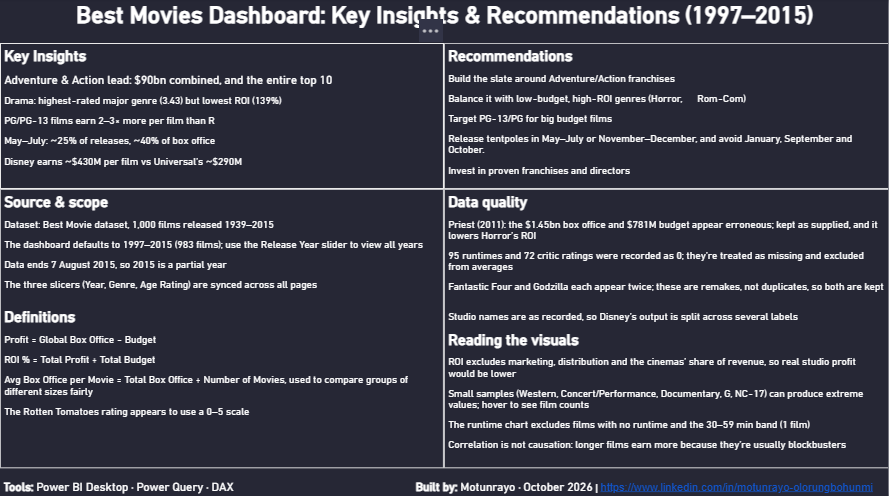

What the dashboard file says about the page in this screenshot:
{"tool":"powerbi","page":{"name":"Insights & Recommendations","canvas":[1280,720],"ordinal":4},"visuals":[{"type":"textbox","box":[0,0,1280,50.1],"z":0},{"type":"textbox","box":[0,64.8,639.4,210.2],"z":1000},{"type":"textbox","box":[639.4,64.8,640.8,210.2],"z":2000},{"type":"textbox","box":[0,275,639.4,401.8],"z":2001},{"type":"textbox","box":[639.4,275,640.8,401.8],"z":2002},{"type":"textbox","box":[0,688.3,1280.2,31.7],"z":2003}]}

Visuals, with their boxes in screenshot pixels (x1, y1, x2, y2), scaled from the page's 1280x720 canvas onto the 889x496 screenshot:
textbox: bbox=(0, 0, 888, 35)
textbox: bbox=(0, 45, 444, 189)
textbox: bbox=(444, 45, 888, 189)
textbox: bbox=(0, 189, 444, 466)
textbox: bbox=(444, 189, 888, 466)
textbox: bbox=(0, 474, 888, 495)
